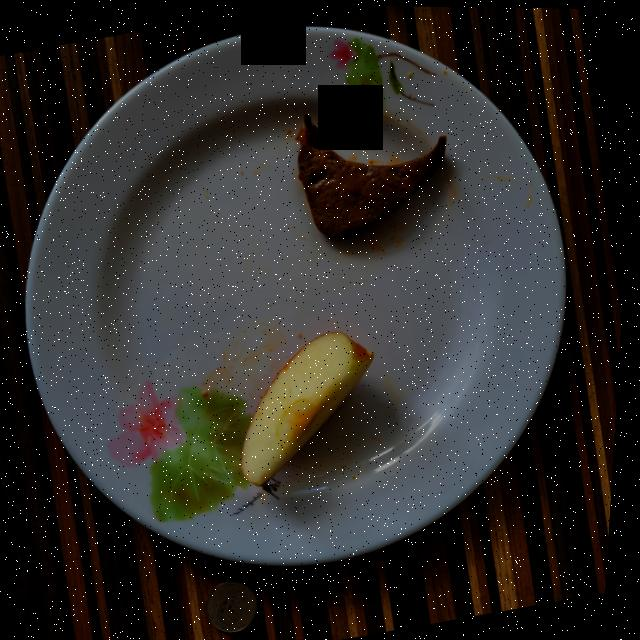apple -sliced-: (246, 330, 377, 485)
coin: (212, 580, 265, 632)
pig liver: (297, 114, 447, 236)
